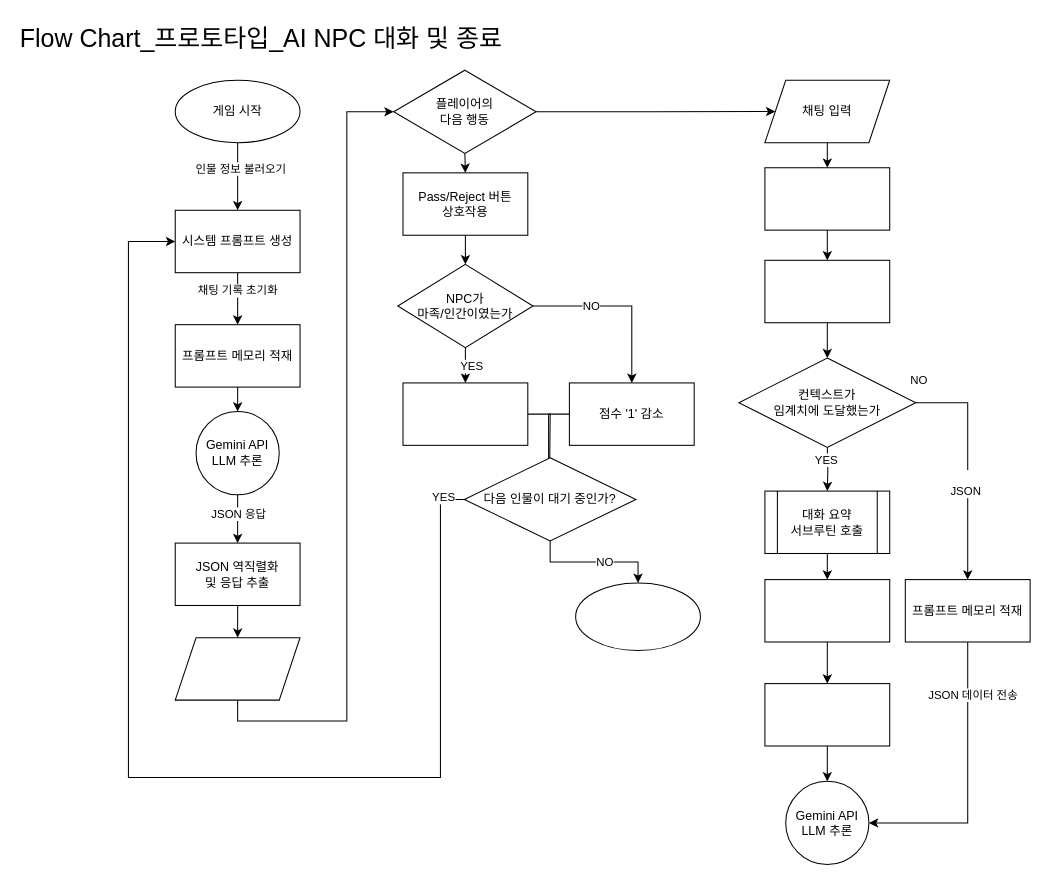
Some shapes in this 1048 by 883 pixel diagram are drawn without their labels. The box of each missing label's shape, as (x1, y1, x2, y2) in pixels:
JSON 직렬화: (764, 683, 890, 746)
NPC 대사 출력: (174, 637, 300, 700)
게임 종료: (575, 582, 700, 651)
압축된 컨텍스트로 대화 기록 갱신: (764, 579, 890, 642)
입력 내용 직렬화: (764, 167, 890, 230)
입력 데이터 메모리 적재: (764, 259, 890, 323)
점수 '1' 증가: (402, 382, 528, 445)
